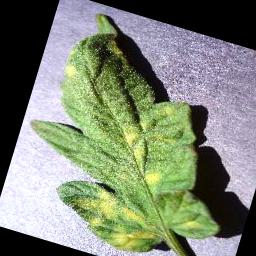Leaf_Mold: (63, 179, 167, 256), (113, 113, 156, 163), (141, 168, 164, 189), (62, 61, 80, 79)
